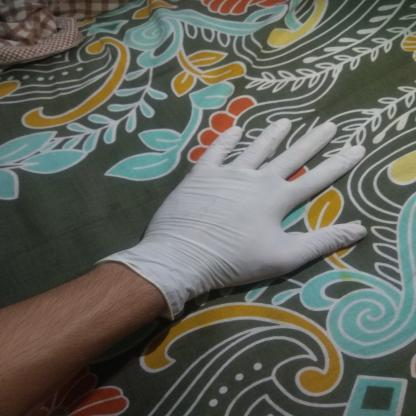gloved_hand: (90, 117, 372, 322)
